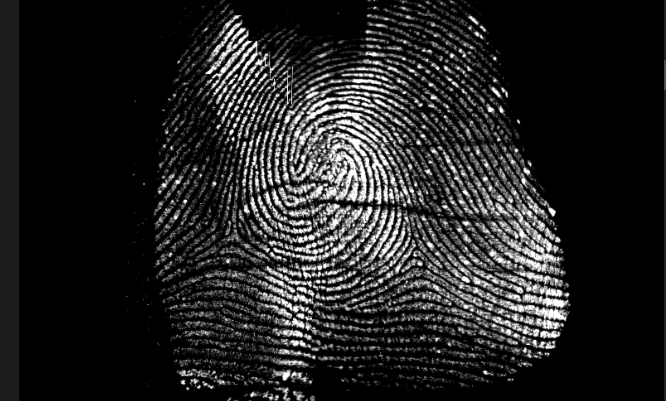deltas: (393, 227, 451, 278), (207, 214, 252, 264)
nucleo: (279, 125, 336, 188)
